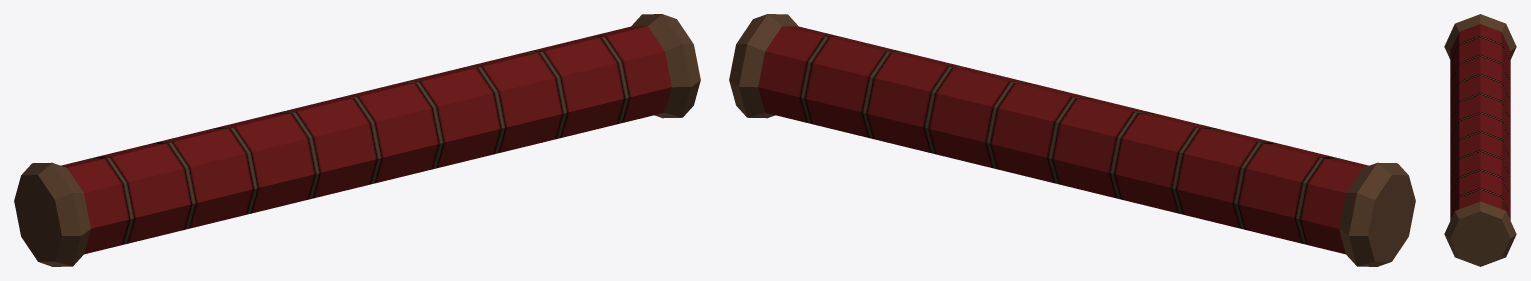
File: Crank.obj
3 views of the same model, side by side, from view 1: azimuth 30°, elevation 25°; view 2: azimuth 150°, elevation 25°; view 3: azimuth 270°, elevation 25° (orthographic). The views are drawn at different scales.
Parts seen in each view (by area): view 1: Crank; view 2: Crank; view 3: Crank.
Boxes of the visible parts, left/top/right/bottom form: Crank: left=14, top=14, right=700, bottom=266; Crank: left=729, top=14, right=1415, bottom=266; Crank: left=1444, top=14, right=1516, bottom=266.
Size of the model in its own units: 0.154 by 0.024 by 0.024.
1 material, 1 textured.
